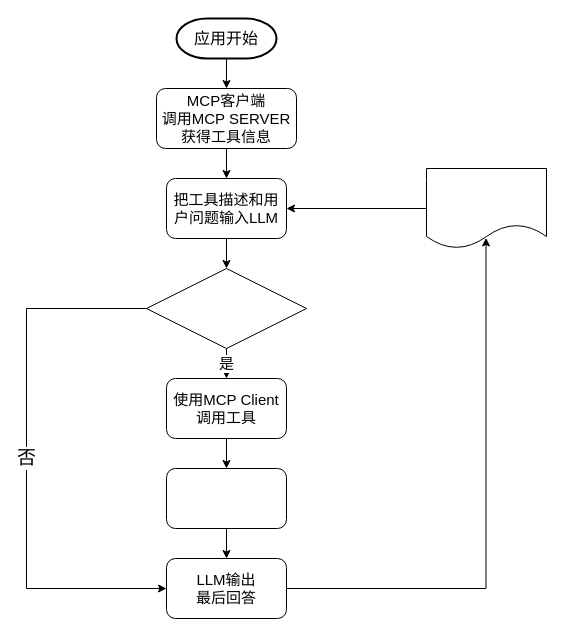
Image size: 564x636. Some labels were removed from this diagram. The shapes that lost their labels are listed below. From the top down, each one's box as (x1, y1, x2, y2) in pixels, then its label:
(426, 168, 546, 248): 用户输入问题
(146, 268, 306, 348): LLM判断 是否需要使用工具
(166, 468, 286, 528): 工具返回结果 并把结果输入LLM
